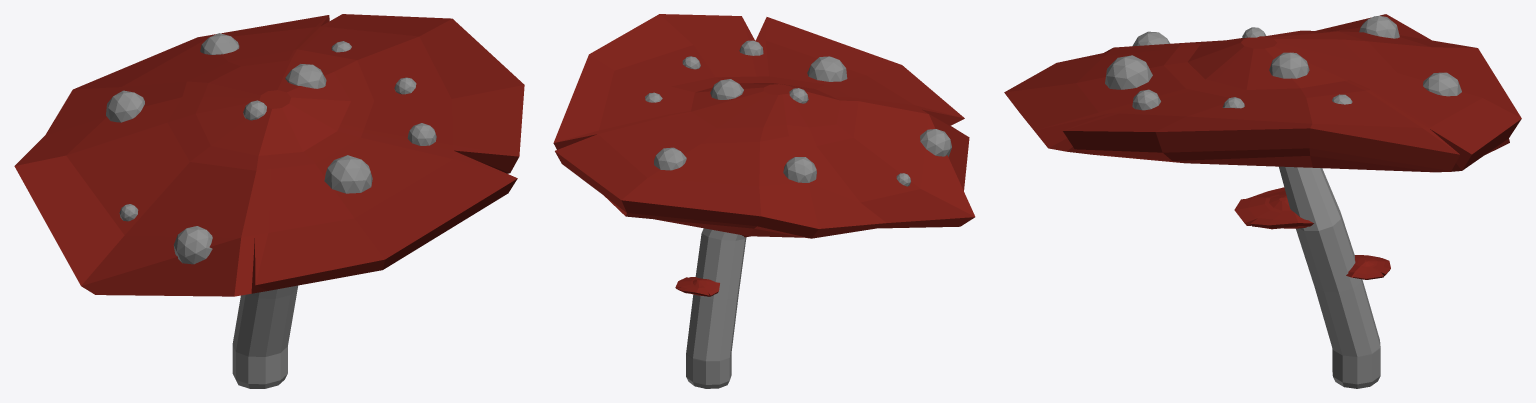
The model's file is Pilz5.fbx.
The picture shows the model from 3 angles, left to right: view 1: azimuth 30°, elevation 25°; view 2: azimuth 150°, elevation 25°; view 3: azimuth 270°, elevation 25°; orthographic projection. The views are drawn at different scales.
Parts seen in each view (by area): view 1: Fliegenpilz; view 2: Fliegenpilz; view 3: Fliegenpilz.
Part boxes in pixels (bbox=[...]): Fliegenpilz: bbox=[14, 14, 524, 388]; Fliegenpilz: bbox=[553, 14, 975, 388]; Fliegenpilz: bbox=[1004, 14, 1521, 388].
Size of the model in its own units: 2249 by 1725 by 2447.
